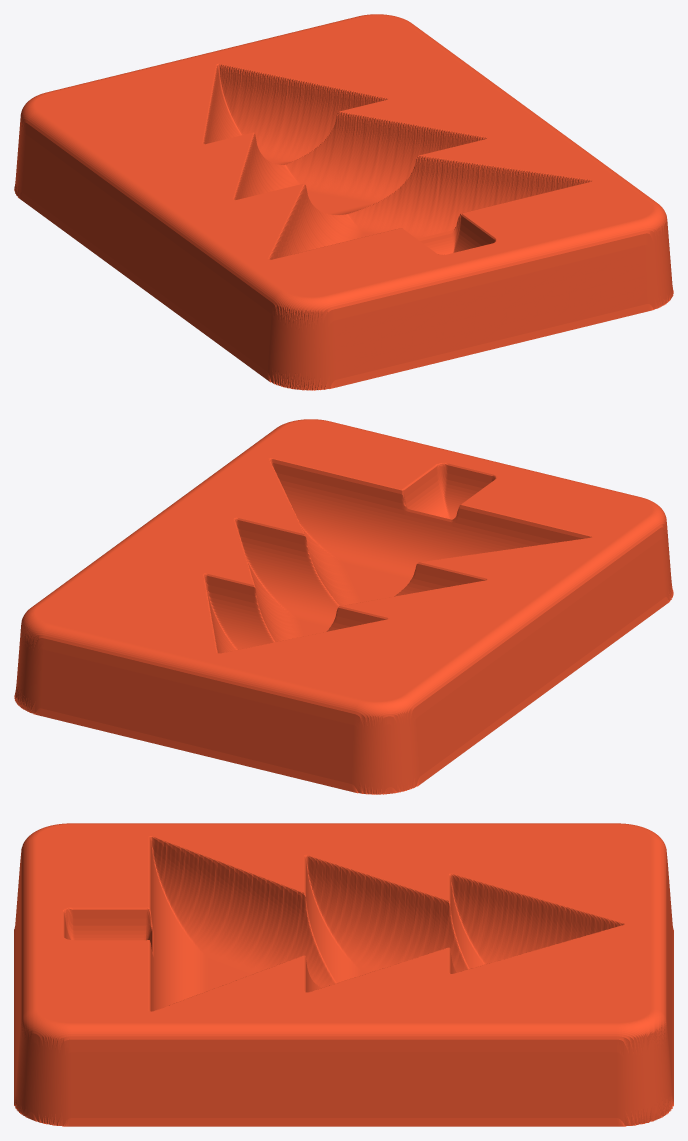
File: mold.glb
3 views of the same model, one above another, from view 1: azimuth 30°, elevation 25°; view 2: azimuth 150°, elevation 25°; view 3: azimuth 270°, elevation 25° (orthographic). The views are drawn at different scales.
Parts seen in each view (by area): view 1: geometry_0; view 2: geometry_0; view 3: geometry_0.
Boxes of the visible parts, x1,y1,x2,y2 form: geometry_0: [14, 14, 673, 390]; geometry_0: [14, 419, 673, 794]; geometry_0: [14, 823, 673, 1126].
Size of the model in its own units: 0.0818 by 0.0165 by 0.105.
